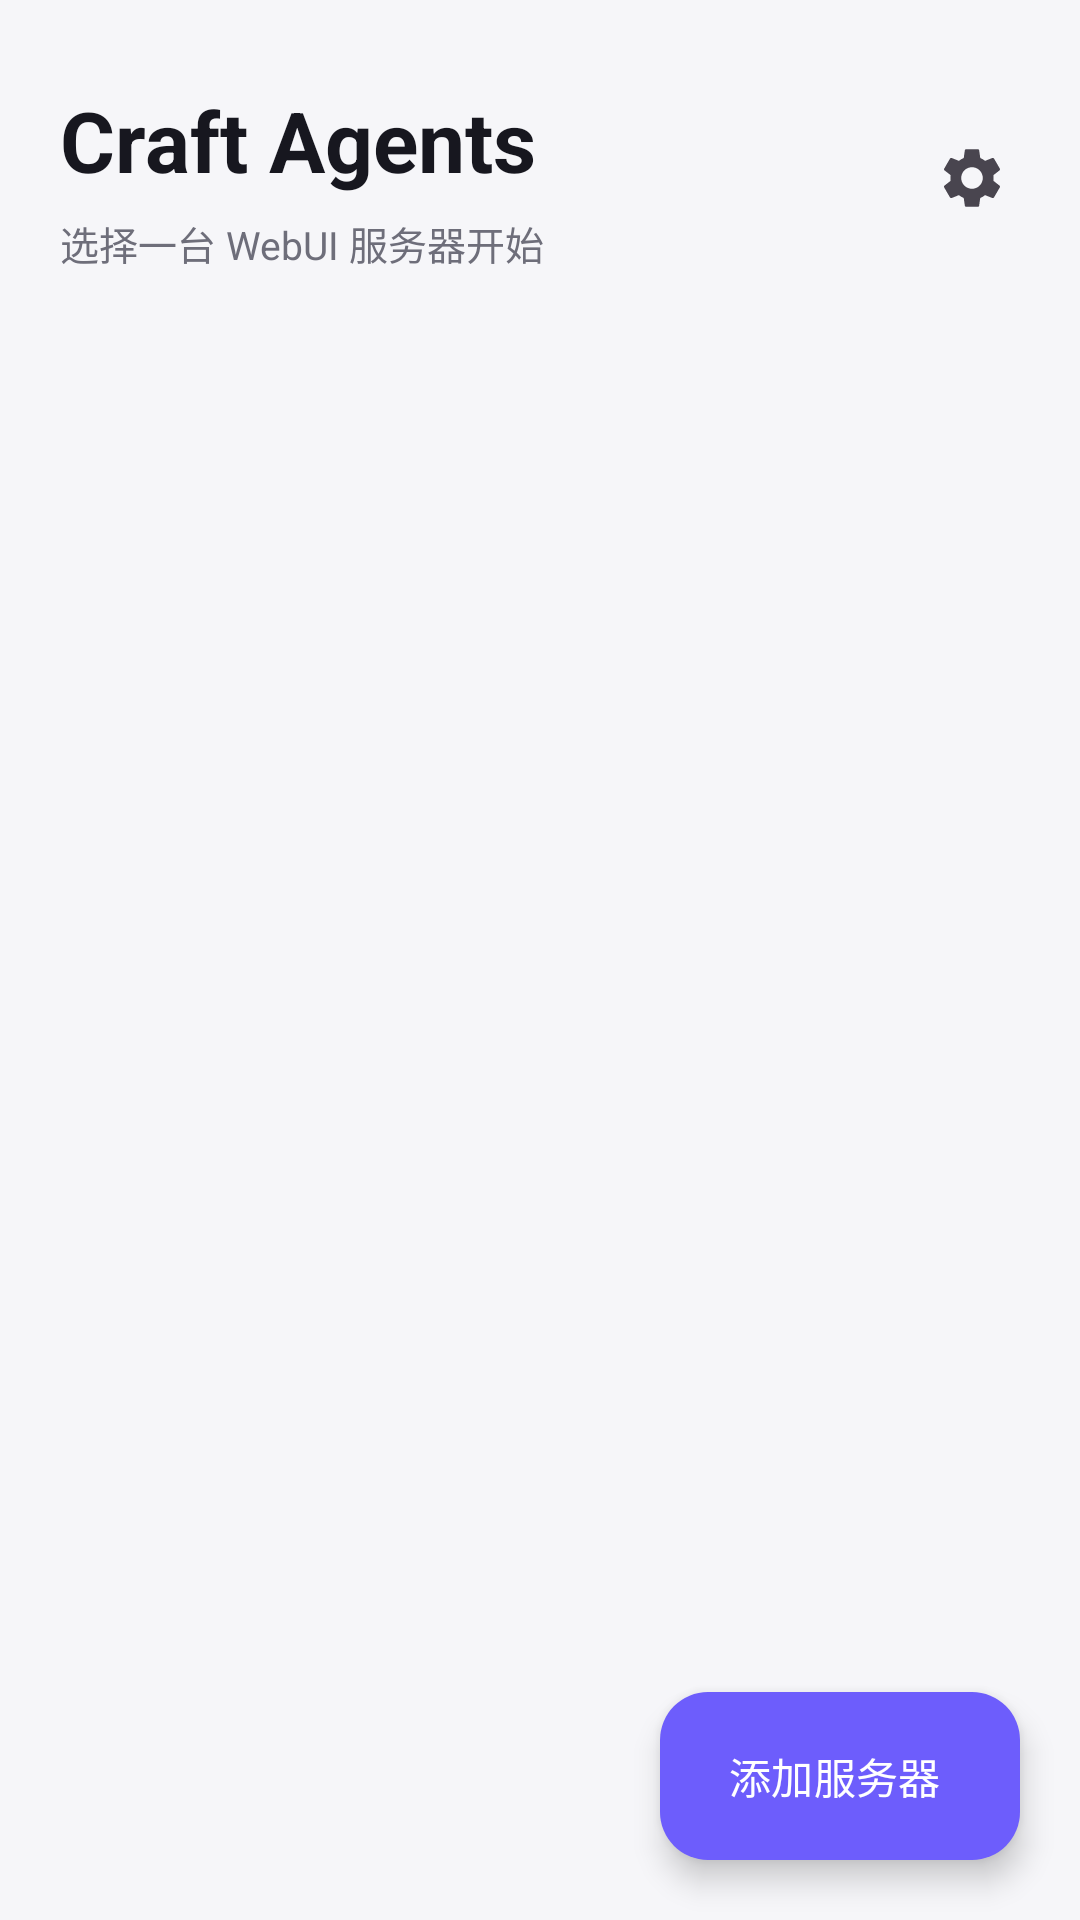

Screen size 1080 × 1920. Icon name, then its box in pixels as (x1, y1, x2, y2):
显示设置: (944, 149, 1000, 207)
